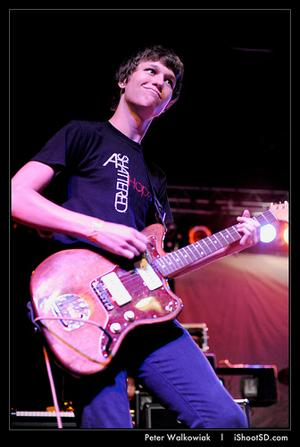person: (13, 43, 262, 429)
